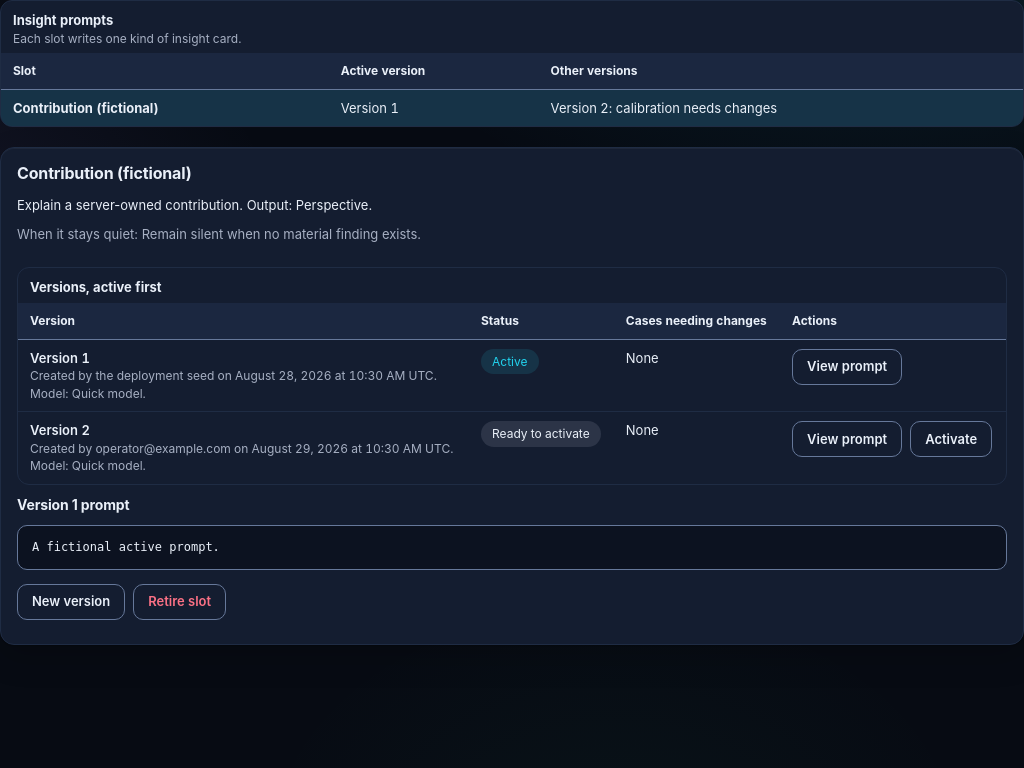
Test: the roster names each slot by its served display name and leads with the active version
The width and height of the screenshot is (1024, 768).
Check: the heading "Contribution (fictional)" is shown, box [17,162,192,186]
Check: the element "Insight prompts" is shown, box [0,0,1023,128]
Click the button with aria-label "Activate version 2".
click(951, 439)  # box [910,421,992,457]
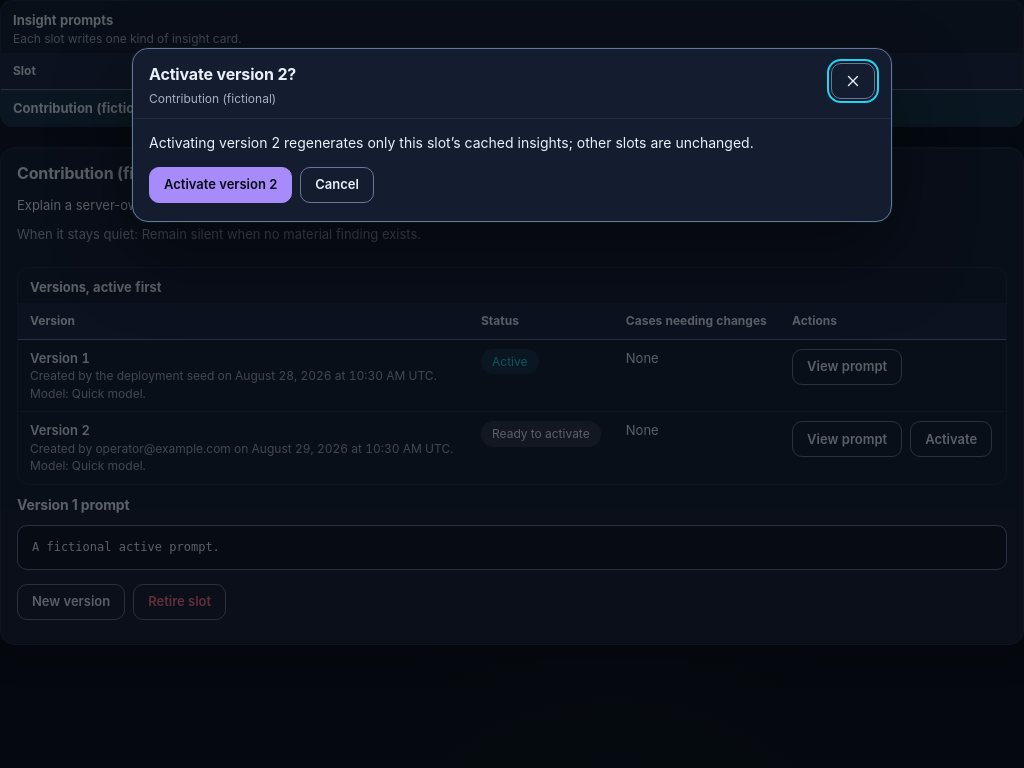
Click the button "Cancel".
click(337, 185)  # box [300,167,374,203]
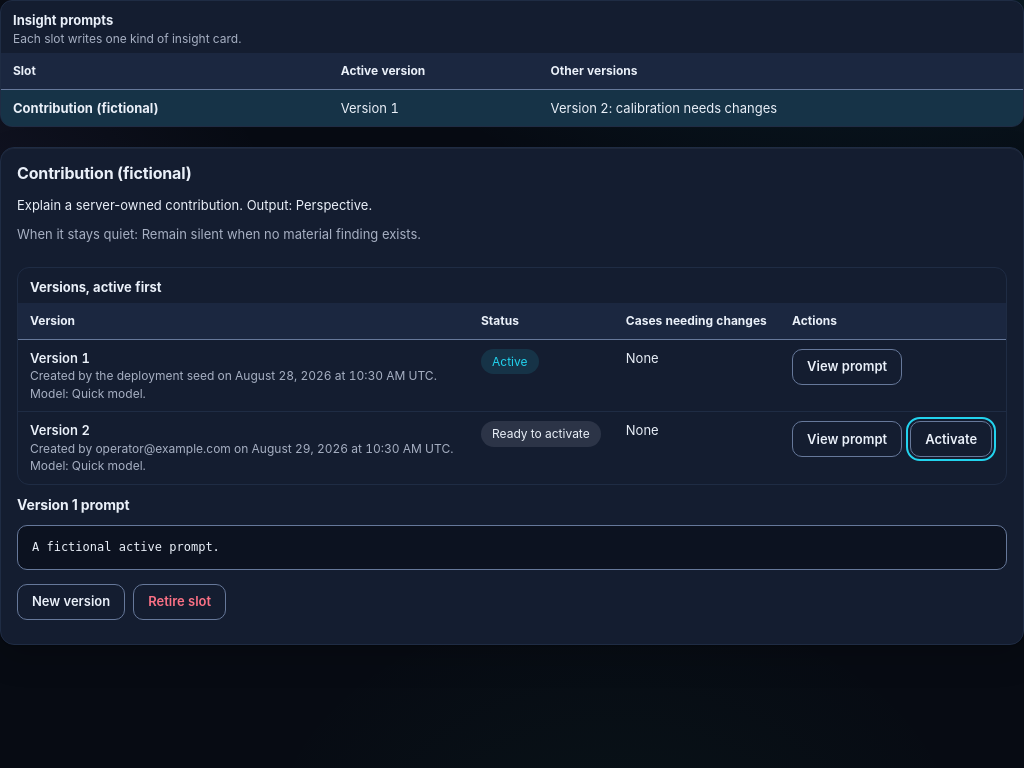
Check: the dialog is gone
